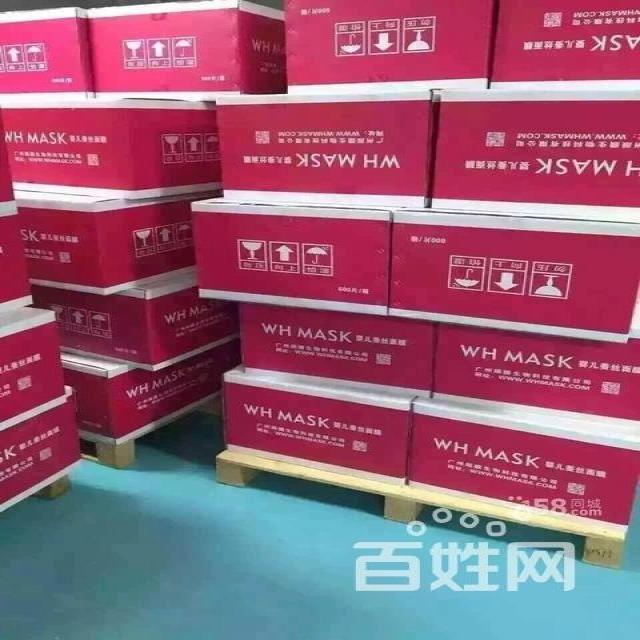box: (387, 207, 640, 343), (407, 394, 640, 529), (429, 90, 640, 226), (216, 92, 440, 209), (0, 91, 223, 200), (433, 321, 640, 437), (191, 197, 391, 316), (223, 363, 413, 486), (32, 274, 239, 370), (284, 0, 497, 93), (17, 188, 197, 297), (64, 336, 239, 447), (83, 0, 288, 91), (237, 303, 433, 397), (0, 8, 97, 94), (0, 307, 67, 424), (0, 202, 35, 315), (0, 118, 15, 202)
